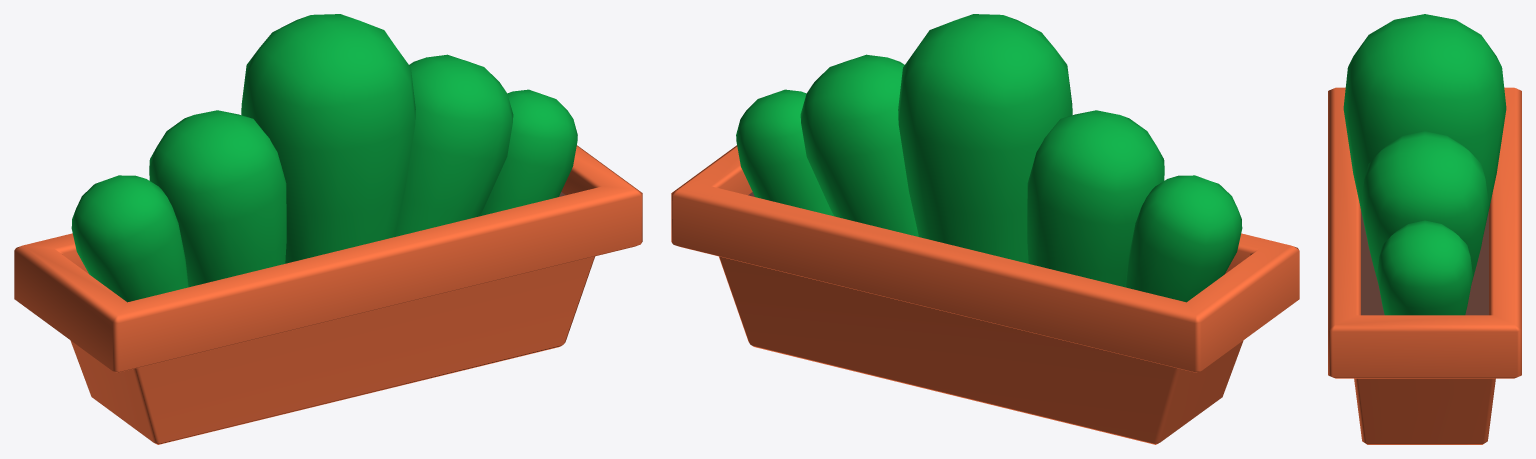
File: Store_5_Plant_1.glb
3 renders of one model, left to right at view 1: azimuth 30°, elevation 25°; view 2: azimuth 150°, elevation 25°; view 3: azimuth 270°, elevation 25°, orthographic. The views are drawn at different scales.
Parts seen in each view (by area): view 1: Store_5_Plant_1; view 2: Store_5_Plant_1; view 3: Store_5_Plant_1.
Part boxes in pixels (<box>): Store_5_Plant_1: <box>14,14,642,444</box>; Store_5_Plant_1: <box>671,14,1299,444</box>; Store_5_Plant_1: <box>1328,14,1521,444</box>.
Size of the model in its own units: 1.98 by 1.25 by 0.6684.
1 material, 1 textured.
